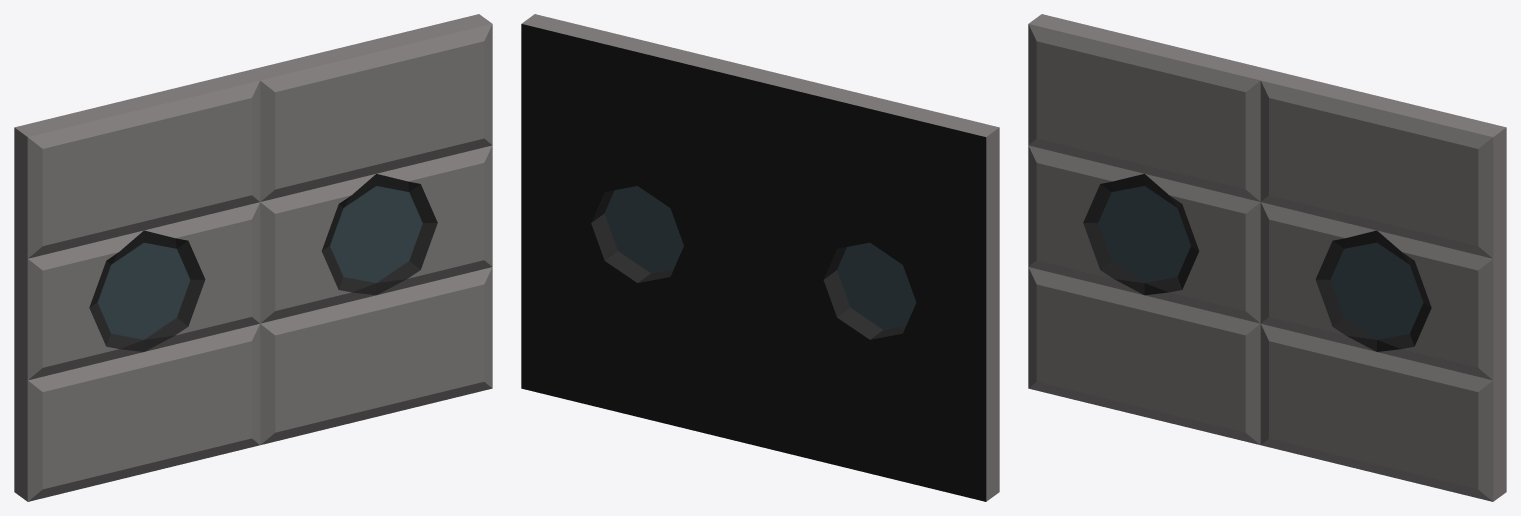
File: scifi_scifi-wall-windows.fbx
3 views of the same model, side by side, from view 1: azimuth 30°, elevation 25°; view 2: azimuth 150°, elevation 25°; view 3: azimuth 330°, elevation 25° (orthographic).
Parts seen in each view (by area): view 1: scifi_scifi_wall_windows; view 2: scifi_scifi_wall_windows; view 3: scifi_scifi_wall_windows.
Part boxes in pixels (left/top/right/bottom): scifi_scifi_wall_windows: left=14, top=14, right=492, bottom=501; scifi_scifi_wall_windows: left=521, top=14, right=999, bottom=501; scifi_scifi_wall_windows: left=1028, top=14, right=1506, bottom=501.
Bounding box in the file's own units: 200 × 150 × 12.5.
